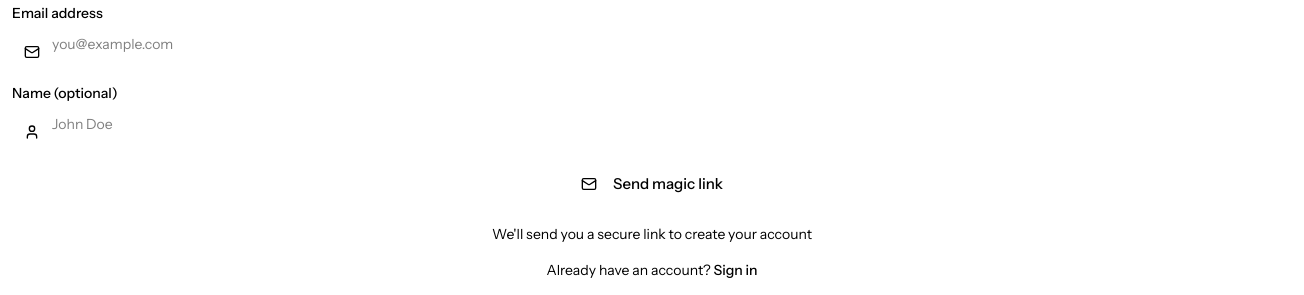
Test: SignupForm — magic link only › confirms the link was sent
Type "new@example.com" into the field labelled "Email address".
click(652, 44); type("new@example.com")  # box top-left (12, 24), bottom-right (1292, 64)
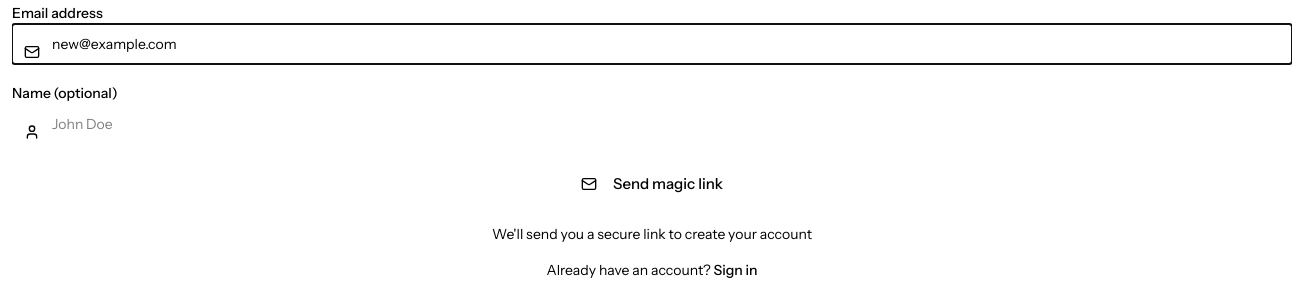
Click the button "Send magic link".
click(652, 184)  # box top-left (12, 160), bottom-right (1292, 208)
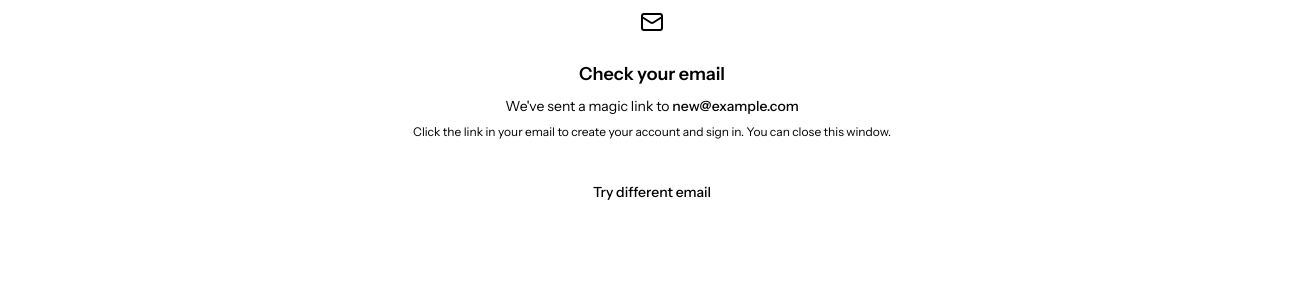
Check: the heading "Check your email" is shown, box top-left (579, 63), bottom-right (725, 85)
